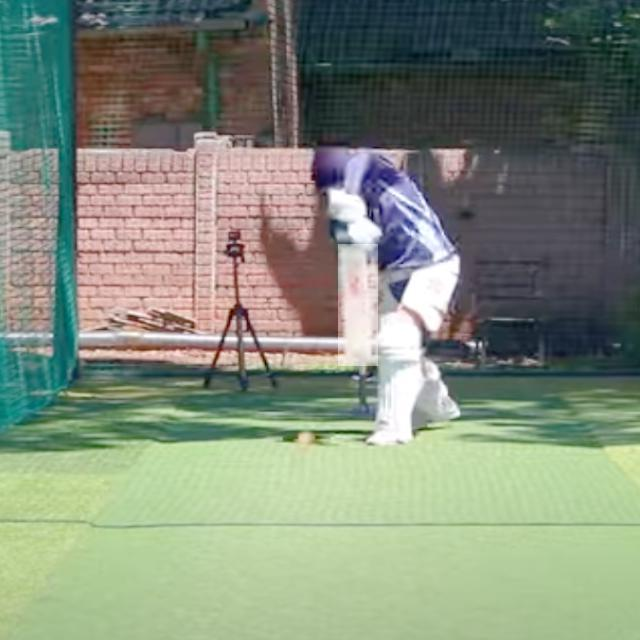bat: (338, 244, 378, 365)
toe: (346, 359, 369, 364)
